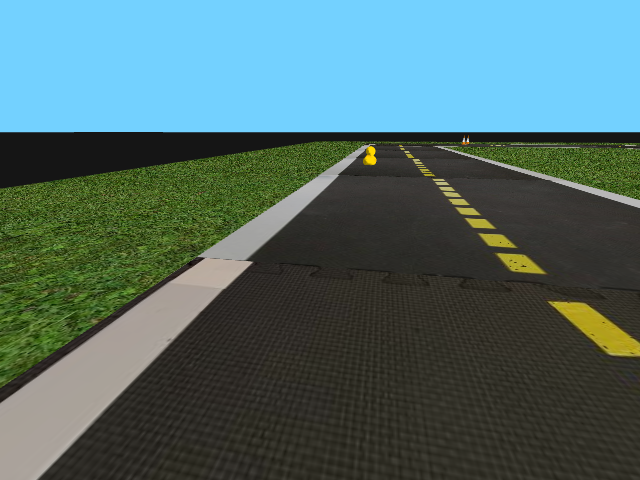Duckie: (362, 146, 378, 166)
